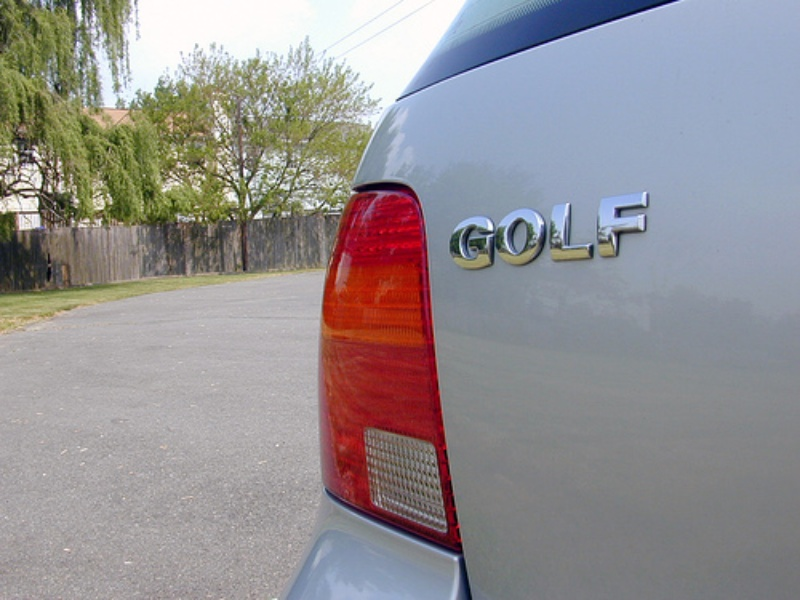car: (272, 1, 800, 600)
